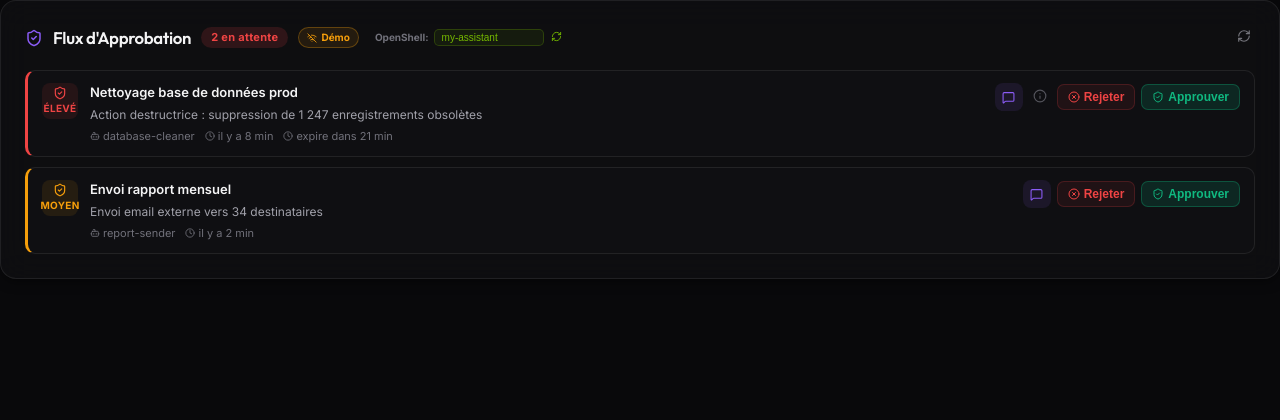
Test: ApprovalsWidget — payload expansion › info button collapses payload on second click
This screenshot has width=1280, height=420.
Check: the text "Nettoyage base de données prod" is shown, box [90, 84, 298, 100]
Step 1. Click the button titled "Détails" → (1040, 97), box [1029, 85, 1051, 110]
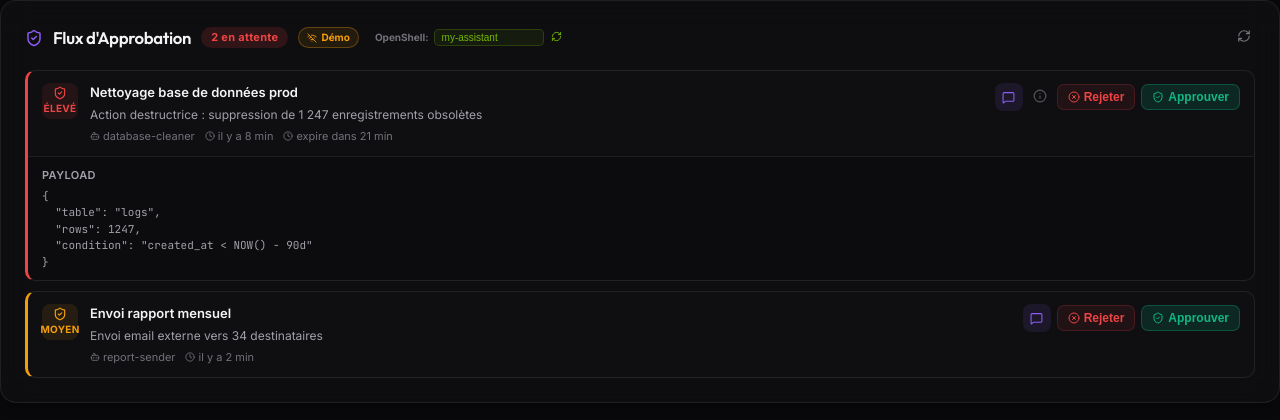
Check: the text "Payload" is shown, box [42, 168, 96, 182]
Step 2. Click the button titled "Détails" → (1040, 97), box [1029, 85, 1051, 110]
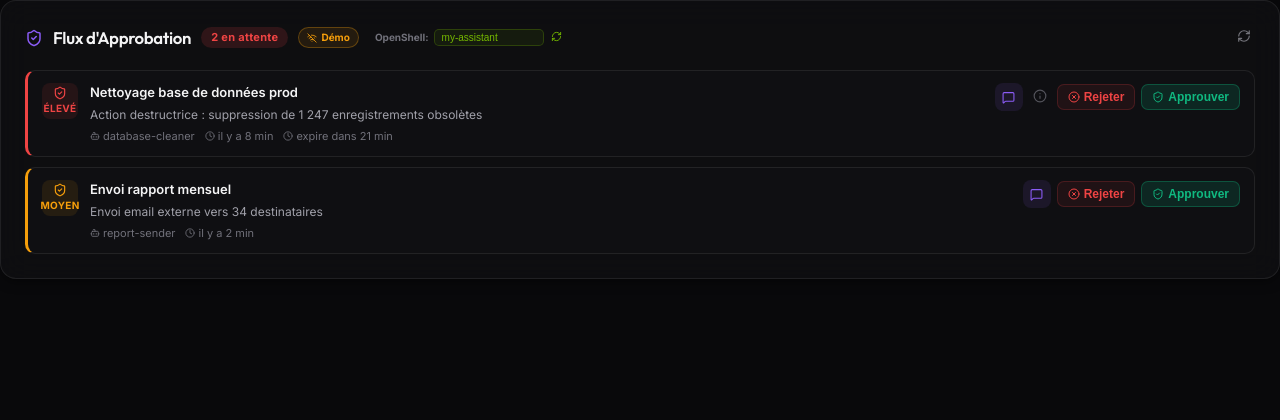
Check: the text "Payload" is gone
